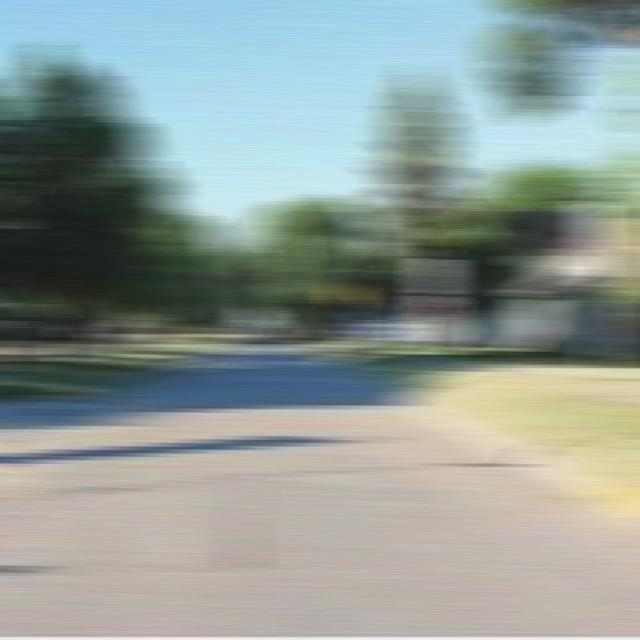speedLimit20: (417, 255, 458, 300)
